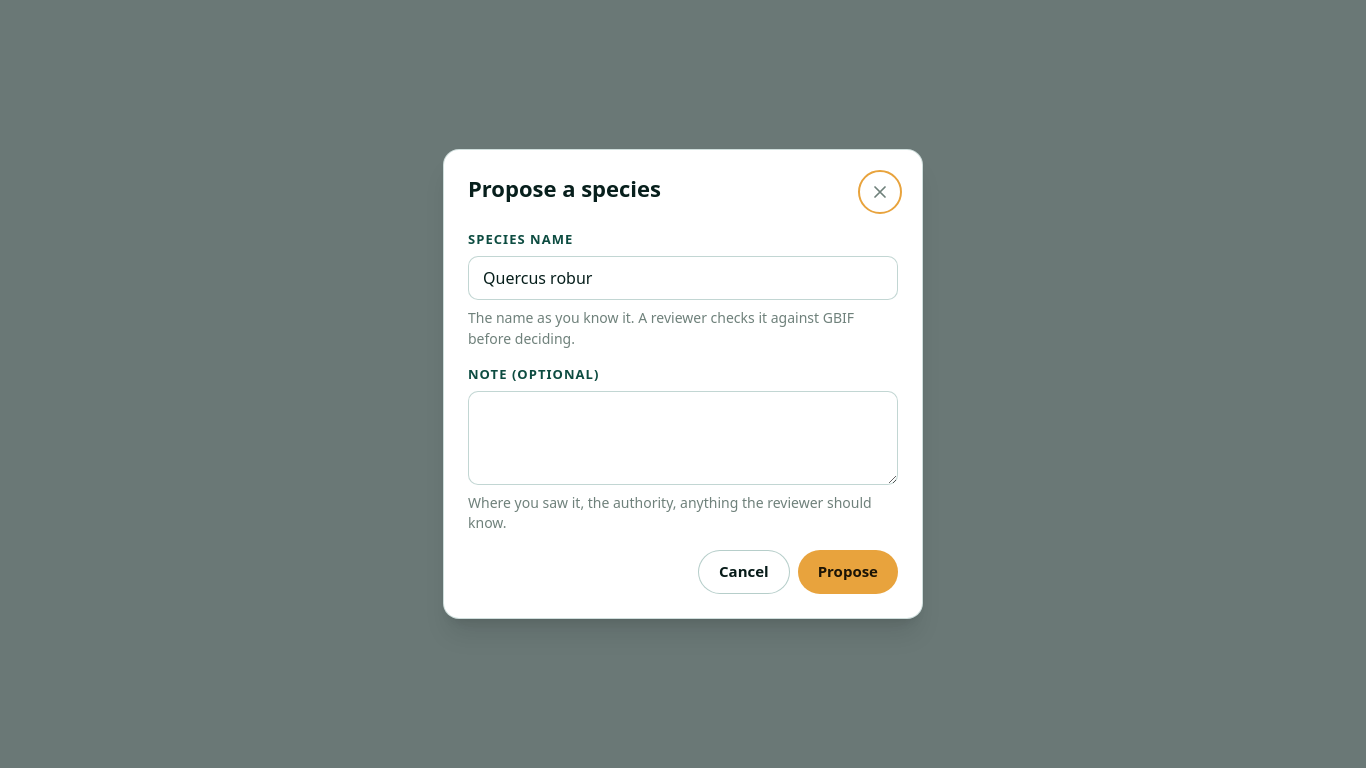
Test: RFC-75 R2 ProposeSpeciesDialog › RFC-75 R2 SPECIES_NAME_TAKEN without details still says the species exists, with no link
The image size is (1366, 768).
What coordinates should you click on to do the following:
click the button "Propose"
I would click on:
 (848, 572)
Its box is top-left (798, 550), bottom-right (898, 594).
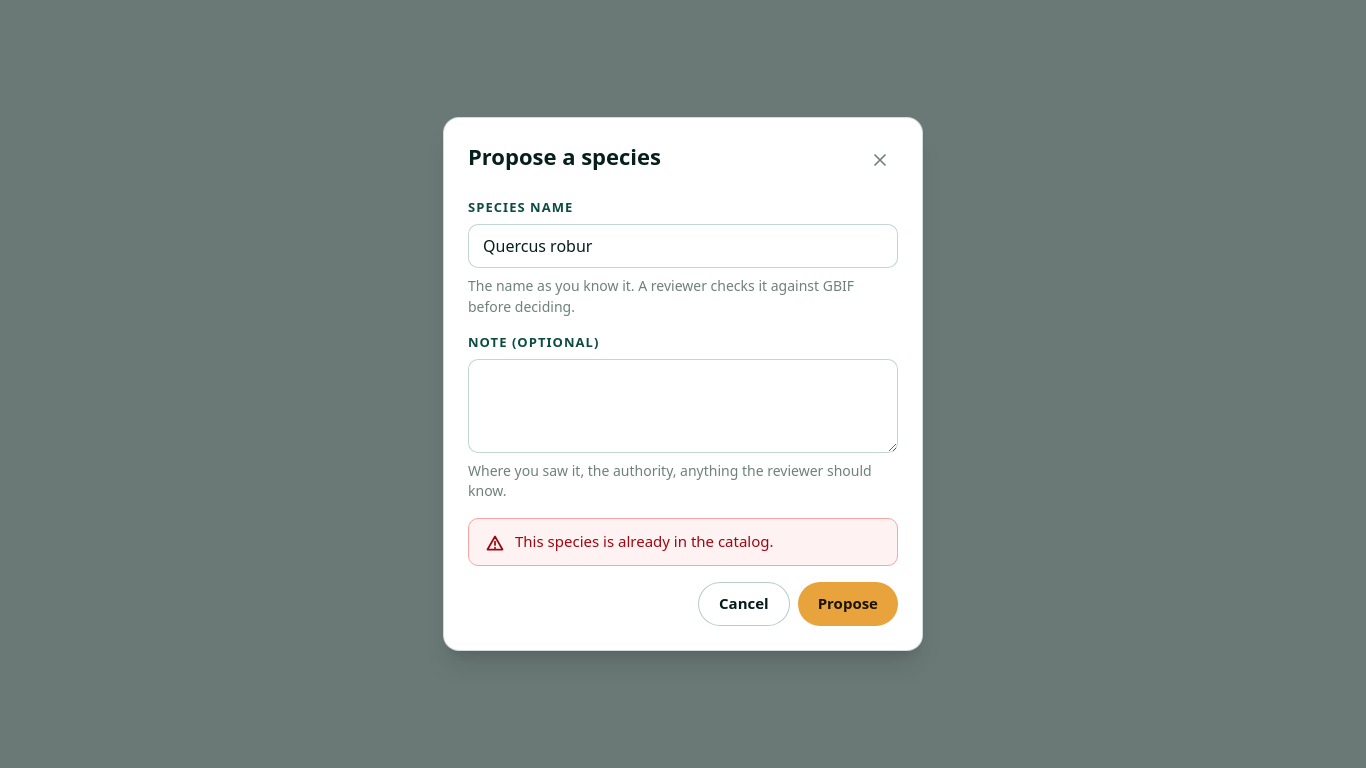
Check: the message reads "This species is already in the catalog.", box top-left (515, 531), bottom-right (774, 551)
